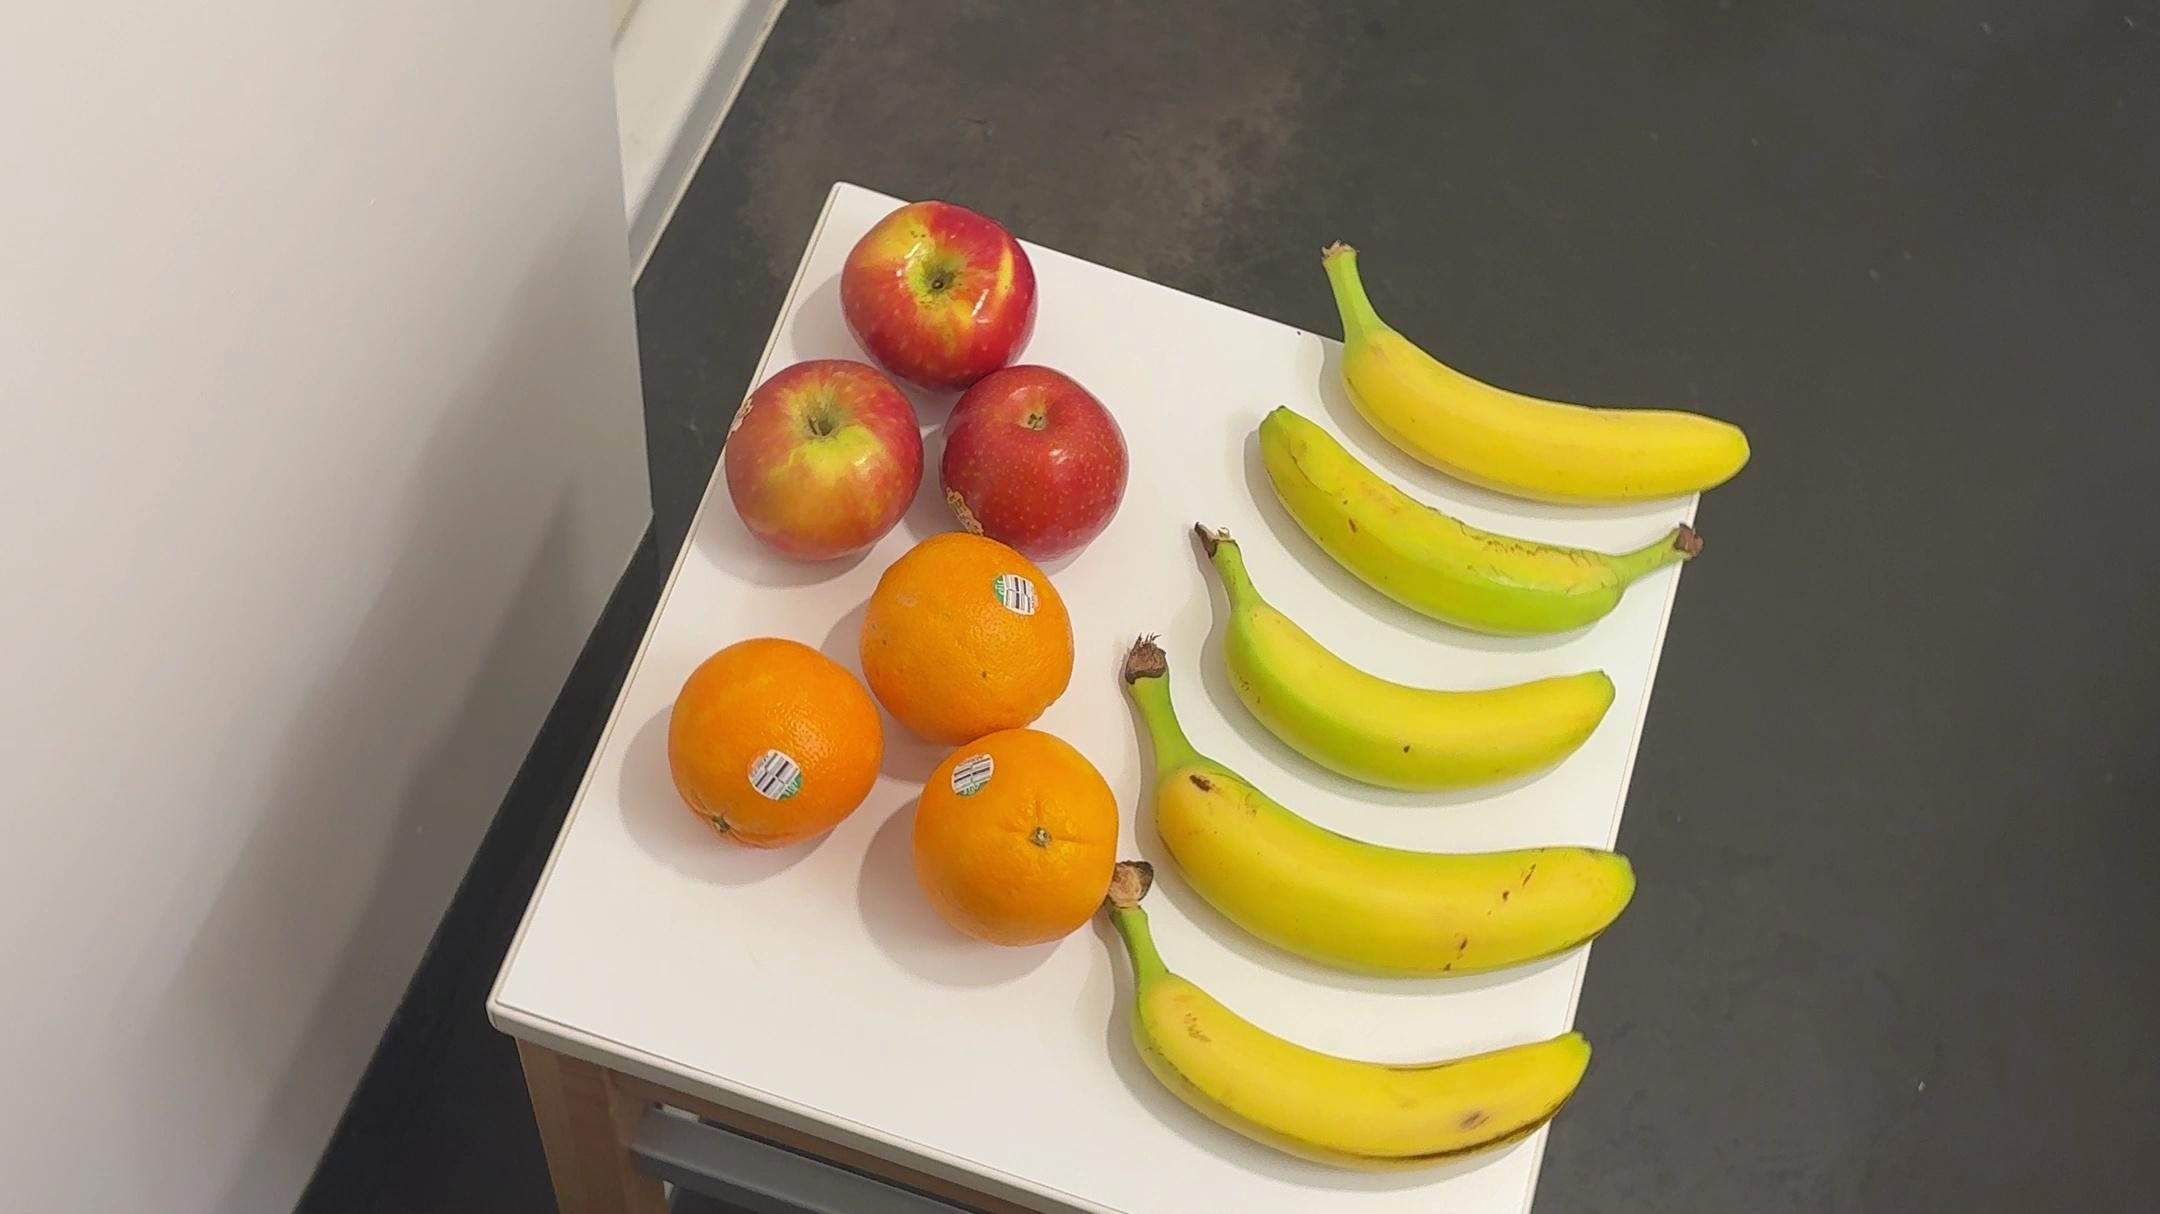apple: (927, 361, 1145, 580), (721, 352, 923, 571), (843, 191, 1044, 390)
banana: (1110, 641, 1647, 996), (1077, 867, 1613, 1178), (1169, 519, 1607, 815), (1305, 232, 1761, 508), (1242, 393, 1713, 643)
orange: (893, 712, 1119, 954), (668, 641, 887, 856), (849, 543, 1081, 735)
